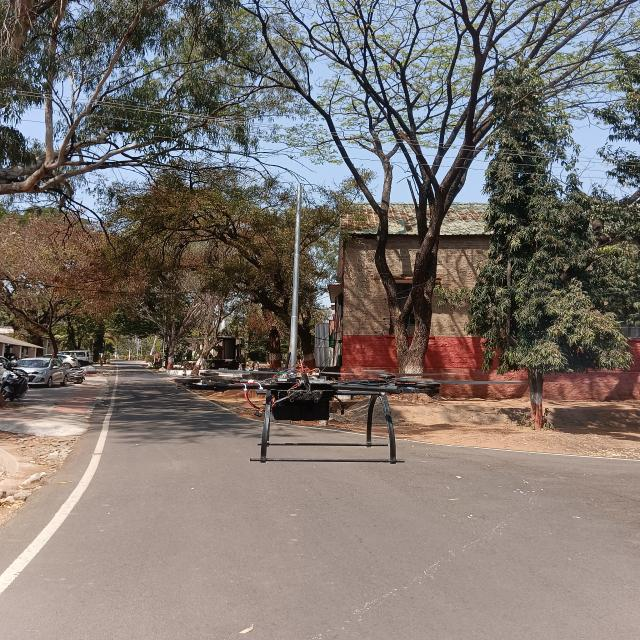drone: (159, 342, 550, 487)
